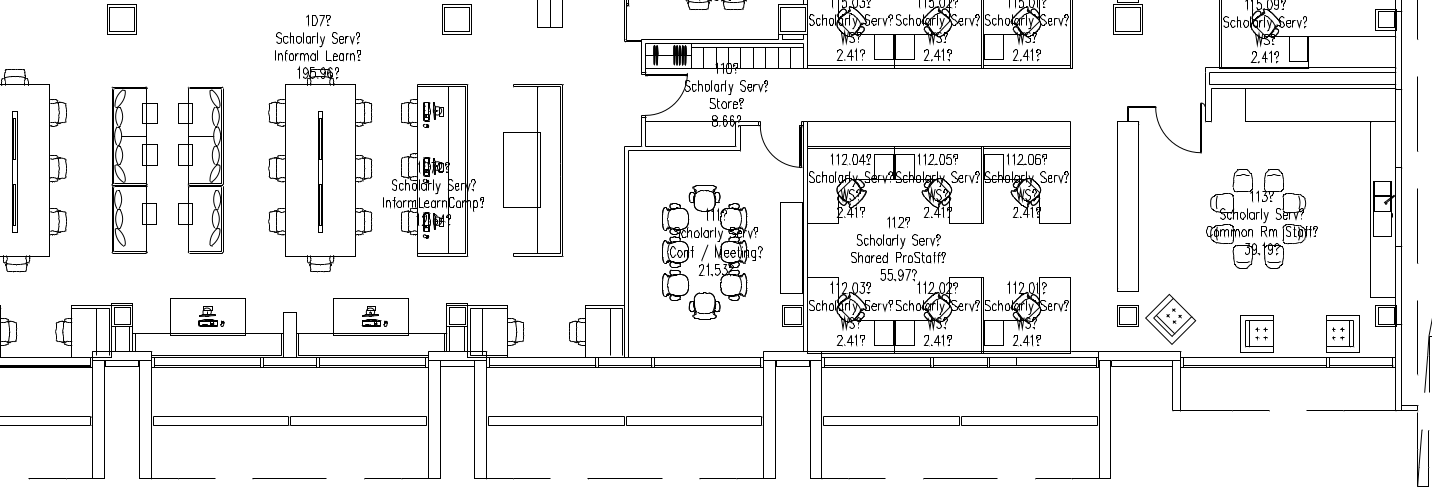door: (1150, 103, 1203, 161), (643, 70, 687, 116), (758, 125, 802, 171)
